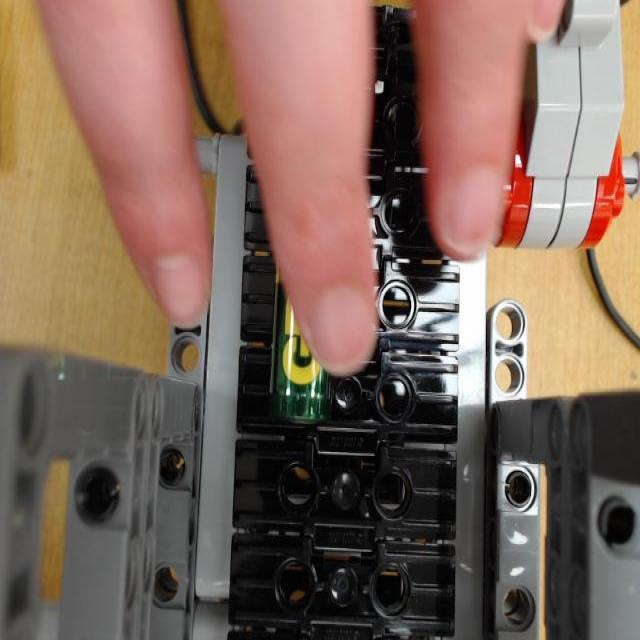AAA: (280, 271, 328, 417)
